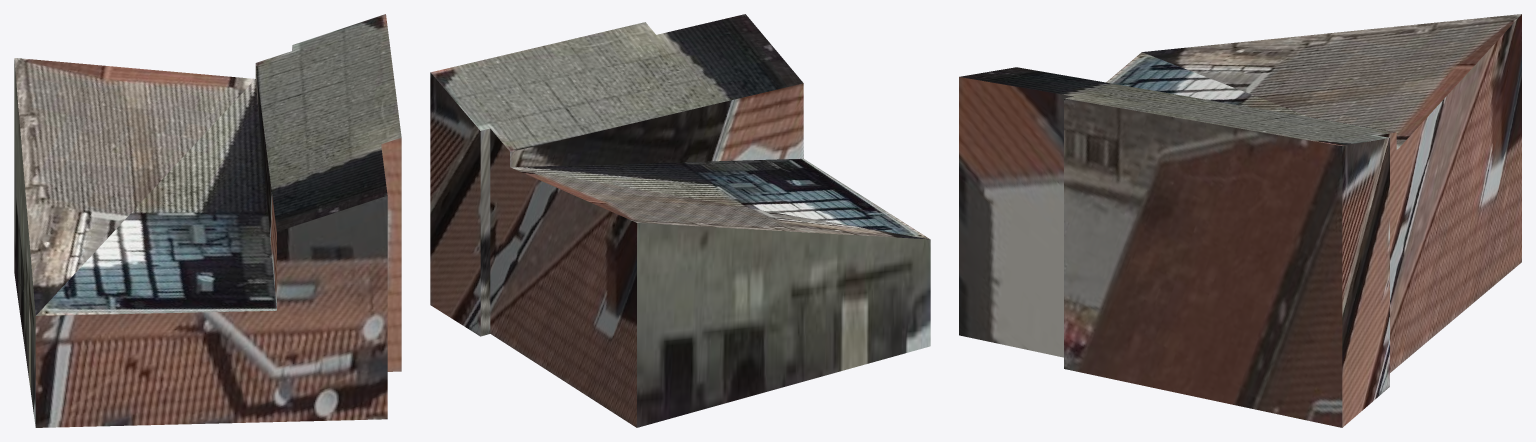
3 views of the same model, side by side, from view 1: azimuth 30°, elevation 25°; view 2: azimuth 150°, elevation 25°; view 3: azimuth 270°, elevation 25° (orthographic). The views are drawn at different scales.
Parts seen in each view (by area): view 1: Z_UP; view 2: Z_UP; view 3: Z_UP.
Boxes of the visible parts, left/top/right/bottom form: Z_UP: left=14, top=14, right=401, bottom=427; Z_UP: left=430, top=14, right=930, bottom=427; Z_UP: left=959, top=14, right=1521, bottom=427.
Size of the model in its own units: 15.33 by 8.18 by 14.8.
2 materials, 1 textured.
